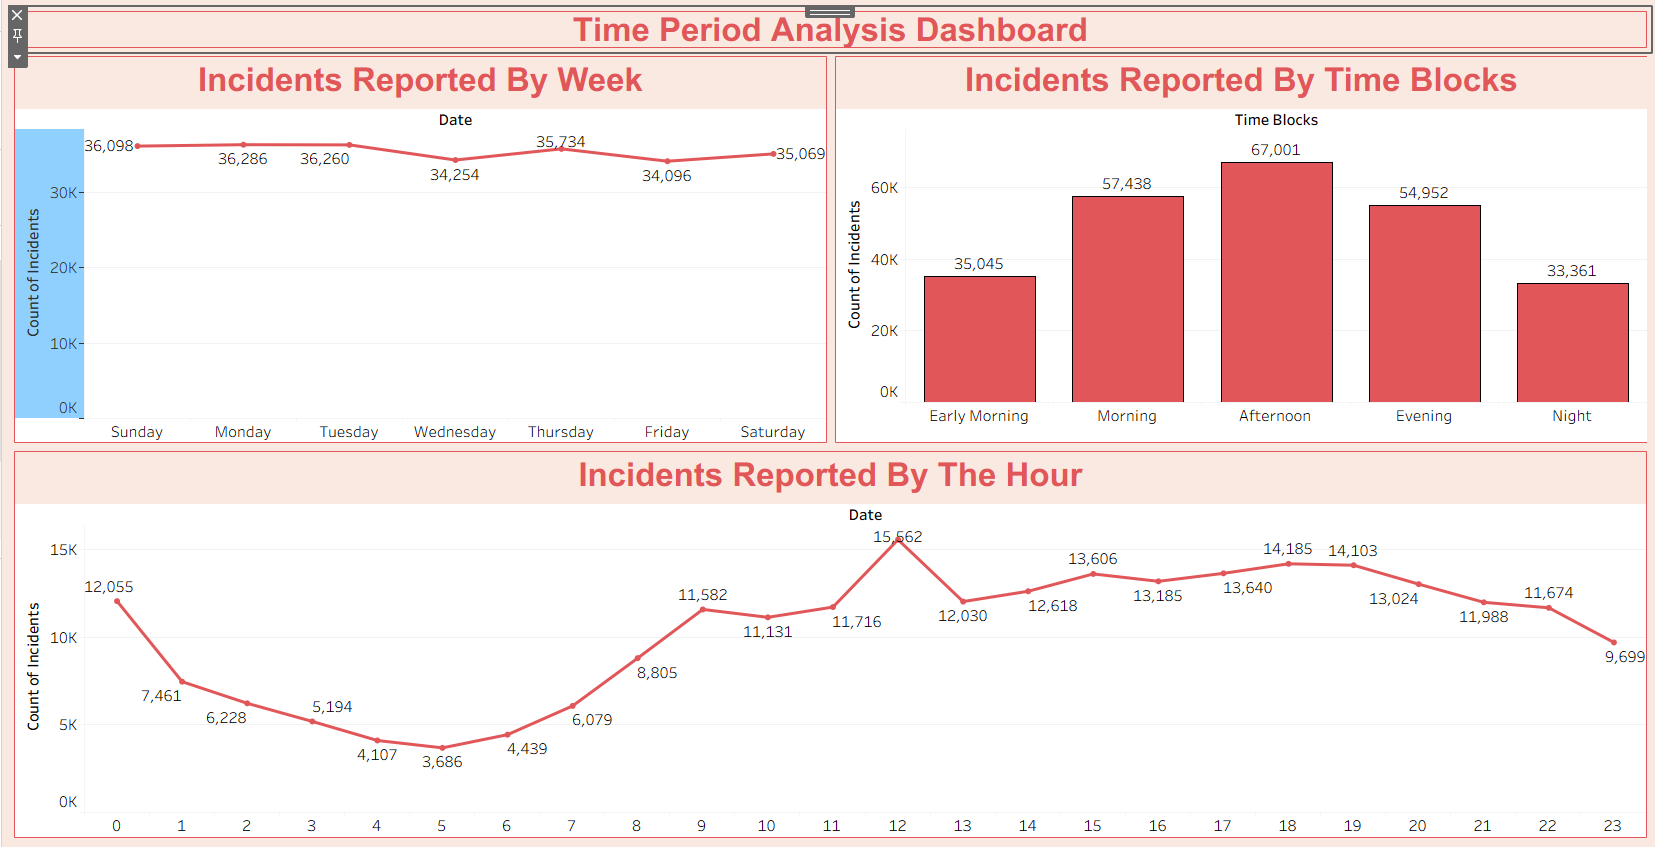

Layout of this report page (visuals, bound fields, positions):
{"tool":"tableau","page":{"name":"Time Period Analysis Dashboard","canvas":[1000,1000],"units":"permille","ordinal":2},"visuals":[{"type":"title","box":[4.8,9.4,990.3,52.9]},{"type":"worksheet","title":"Incidents Reported By Week","mark":"Automatic","rows":["Sheet1_F98B7416FBD24542A8F8B46EDAA7BA40"],"cols":["Date"],"box":[4.8,62.3,495.2,464.2]},{"type":"worksheet","title":"Incidents Reported By Time Blocks","mark":"Automatic","rows":["Sheet1_F98B7416FBD24542A8F8B46EDAA7BA40"],"cols":["Calculation_1007477603856385"],"box":[500,62.3,495.2,464.2]},{"type":"worksheet","title":"Incidents Reported By The Hour","mark":"Automatic","rows":["Sheet1_F98B7416FBD24542A8F8B46EDAA7BA40"],"cols":["Date"],"box":[4.8,526.4,990.3,464.2]}]}

Visuals, with their boxes on the dashboard's canvas, which has no fixed pixel size, in thousandths of its width and height (x1, y1, x2, y2). These are canvas units, not pixel positions in the 1655x847 screenshot, which may show the page scaled, cropped or inside an application window:
title: 5:9:995:62
"Incidents Reported By Week" worksheet: 5:62:500:526
"Incidents Reported By Time Blocks" worksheet: 500:62:995:526
"Incidents Reported By The Hour" worksheet: 5:526:995:991
